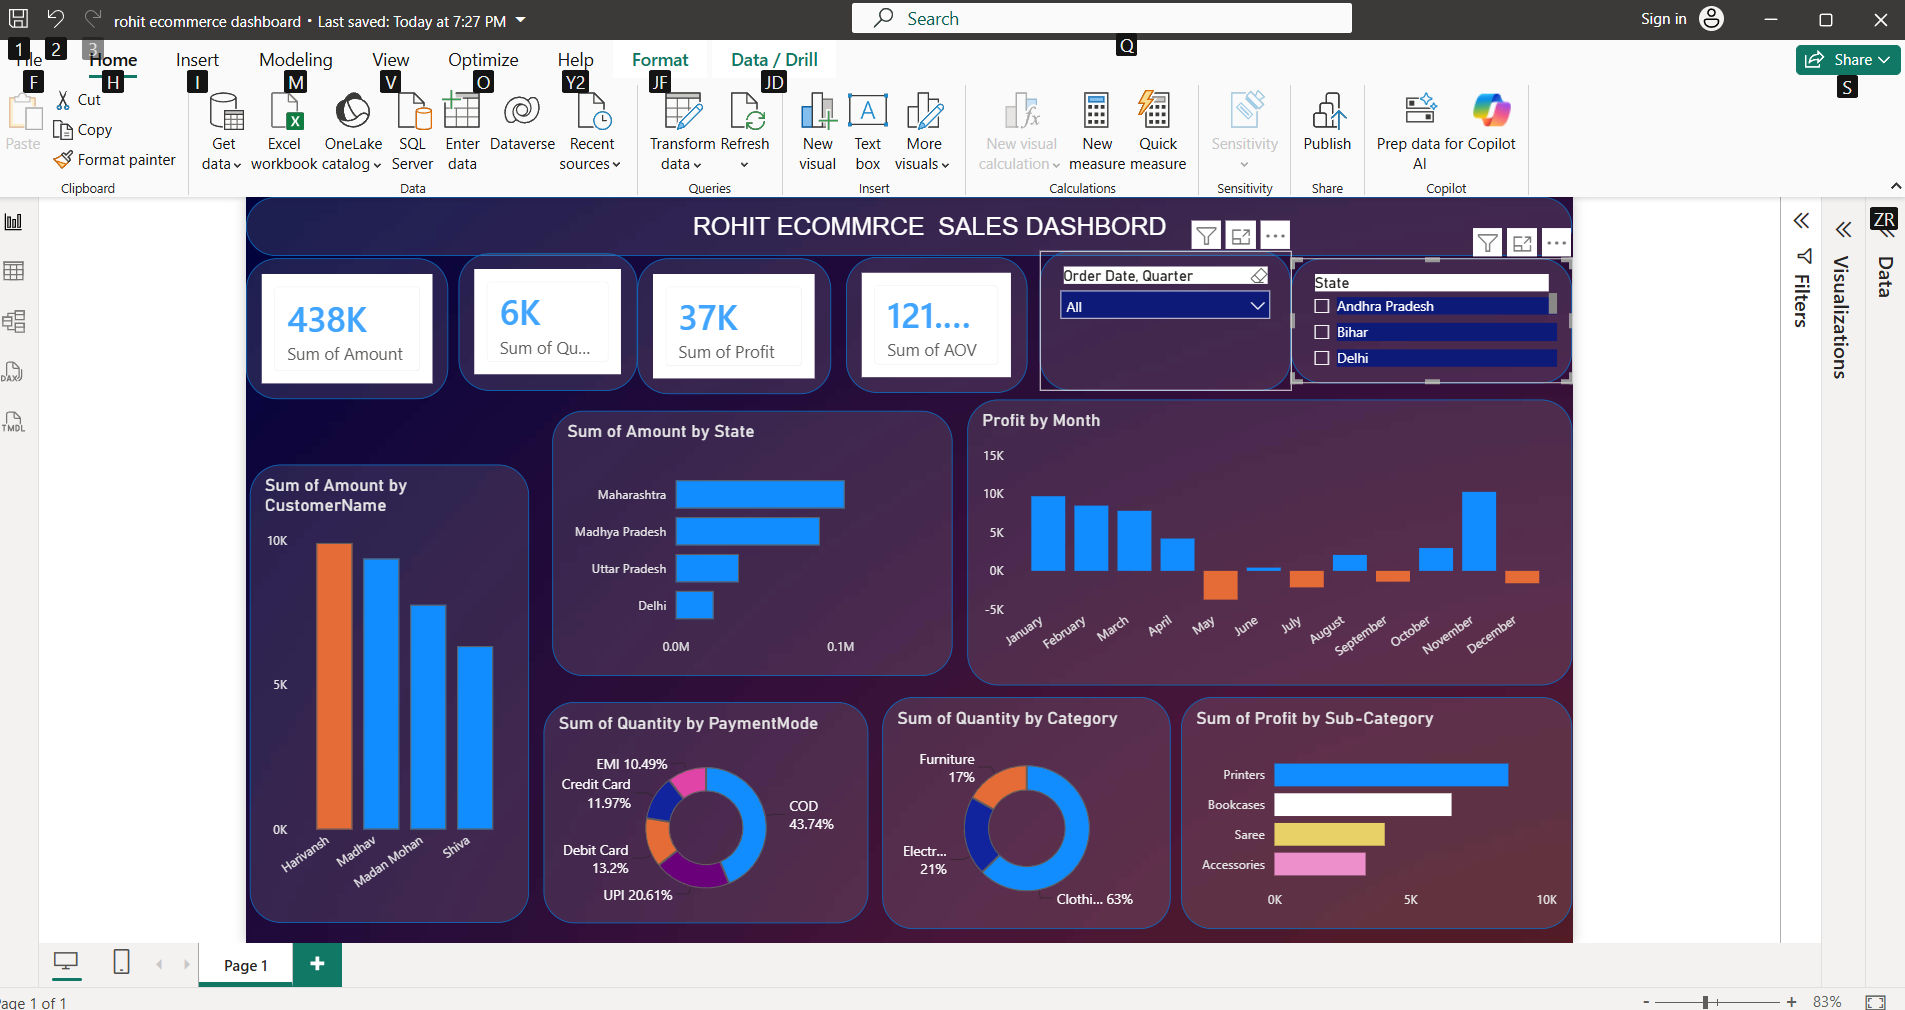

Layout of this report page (visuals, bound fields, positions):
{"tool":"powerbi","page":{"name":"Page 1","canvas":[1280,720],"ordinal":0},"visuals":[{"type":"textbox","box":[0,0,1280,57.1],"z":0},{"type":"columnChart","title":"Profit by Month","fields":{"Category":["Orders.Order Date.Variation.Date Hierarchy.Month"],"Y":["Sum(Details.Profit)"]},"box":[696,196,584,276],"z":1000},{"type":"clusteredBarChart","fields":{"Category":["Details.Sub-Category"],"Y":["Sum(Details.Profit)"]},"box":[902.7,482.7,377.3,224],"z":2000},{"type":"donutChart","fields":{"Category":["Details.Category"],"Y":["Sum(Details.Quantity)"]},"box":[614.7,482.7,278.7,224],"z":3000},{"type":"donutChart","fields":{"Category":["Details.PaymentMode"],"Y":["Sum(Details.Quantity)"]},"box":[286.7,488,313.3,213.3],"z":4000},{"type":"cardVisual","fields":{"Data":["Sum(Details.Quantity)"]},"box":[205.1,54.3,172.5,132.7],"z":5000},{"type":"cardVisual","fields":{"Data":["Sum(Details.Amount)"]},"box":[0,59.1,195.4,136.3],"z":6000},{"type":"cardVisual","fields":{"Data":["Sum(Details.Profit)"]},"box":[377.6,59.1,187,131.5],"z":7000},{"type":"cardVisual","fields":{"Data":["Sum(Details.AOV)"]},"box":[579.1,57.9,174.9,131.5],"z":8000},{"type":"barChart","fields":{"Category":["Orders.State"],"Y":["Sum(Details.Amount)"]},"box":[296,206.7,386.7,256],"z":9000},{"type":"columnChart","fields":{"Category":["Orders.CustomerName"],"Y":["Sum(Details.Amount)"]},"box":[4,258.7,269.3,442.7],"z":10000},{"type":"slicer","fields":{"Values":["Orders.Order Date","Orders.Order Date.Variation.Date Hierarchy.Quarter"]},"box":[766.1,51.9,242.5,135.1],"z":11000},{"type":"slicer","fields":{"Values":["Orders.State"]},"box":[1008.6,59.1,271.4,120.6],"z":12000}]}

Visuals, with their boxes on the page's 1280x720 design canvas (x1, y1, x2, y2). These are canvas units, not pixel positions in the 1905x1010 screenshot, which may show the page scaled, cropped or inside an application window:
textbox: left=0, top=0, right=1280, bottom=57
"Profit by Month" columnChart: left=696, top=196, right=1280, bottom=472
clusteredBarChart - Details.Sub-Category x Sum(Details.Profit): left=903, top=483, right=1280, bottom=707
donutChart - Details.Category x Sum(Details.Quantity): left=615, top=483, right=893, bottom=707
donutChart - Details.PaymentMode x Sum(Details.Quantity): left=287, top=488, right=600, bottom=701
cardVisual - Sum(Details.Quantity): left=205, top=54, right=378, bottom=187
cardVisual - Sum(Details.Amount): left=0, top=59, right=195, bottom=195
cardVisual - Sum(Details.Profit): left=378, top=59, right=565, bottom=191
cardVisual - Sum(Details.AOV): left=579, top=58, right=754, bottom=189
barChart - Orders.State x Sum(Details.Amount): left=296, top=207, right=683, bottom=463
columnChart - Orders.CustomerName x Sum(Details.Amount): left=4, top=259, right=273, bottom=701
slicer - Orders.Order Date x Orders.Order Date.Variation.Date Hierarchy.Quarter: left=766, top=52, right=1009, bottom=187
slicer - Orders.State: left=1009, top=59, right=1280, bottom=180
